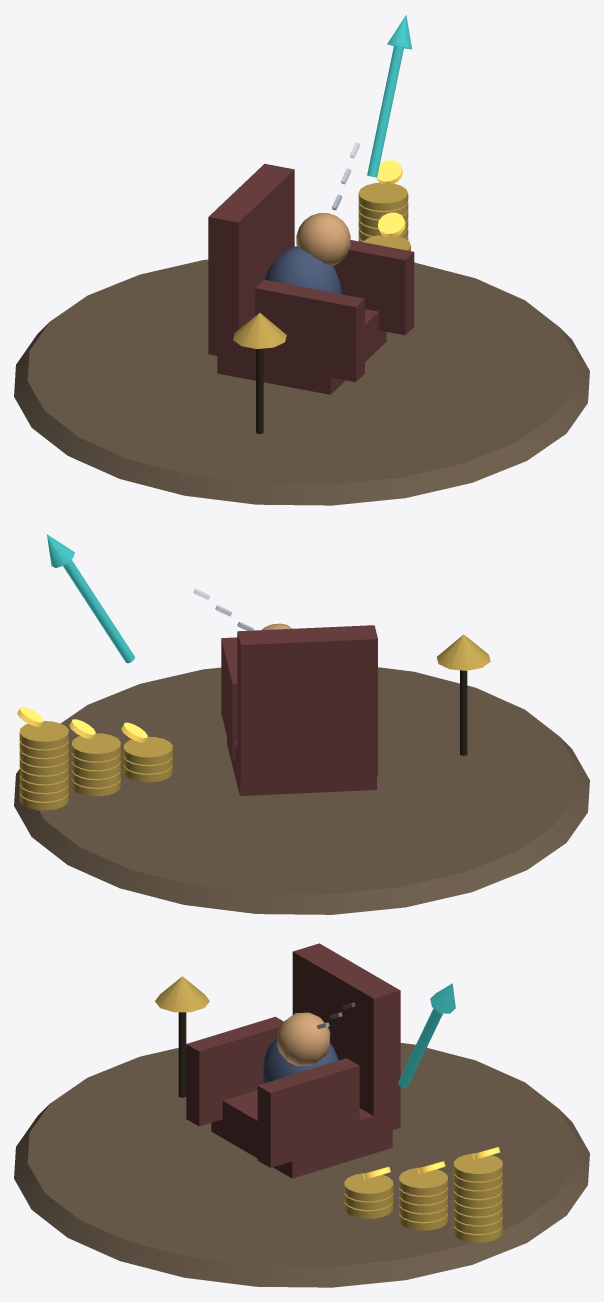
The model's file is money_growth.glb.
3 renders of one model, top to bottom at view 1: azimuth 30°, elevation 25°; view 2: azimuth 150°, elevation 25°; view 3: azimuth 270°, elevation 25°, orthographic.
Size of the model in its own units: 2.09 by 1.08 by 2.09.
